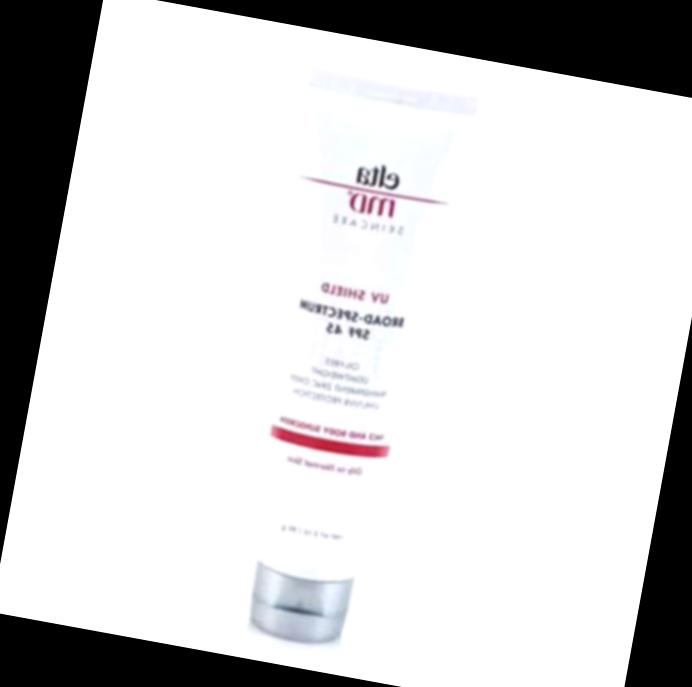cosmetic: (200, 63, 484, 659)
